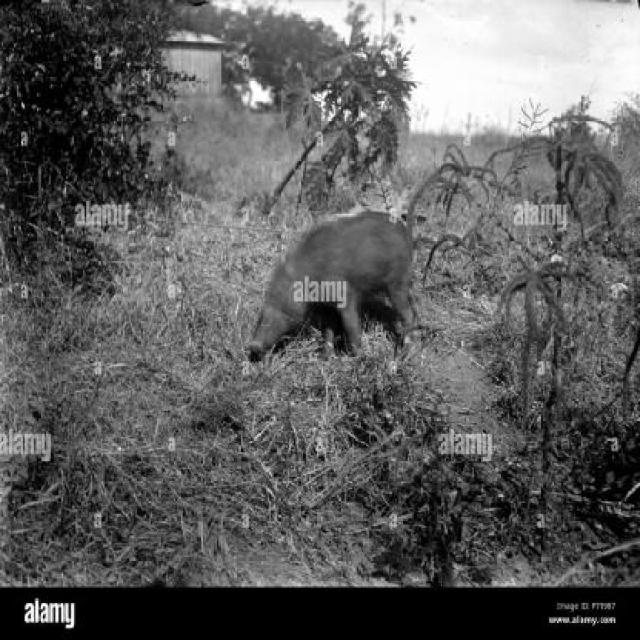wildboar: (247, 208, 419, 364)
